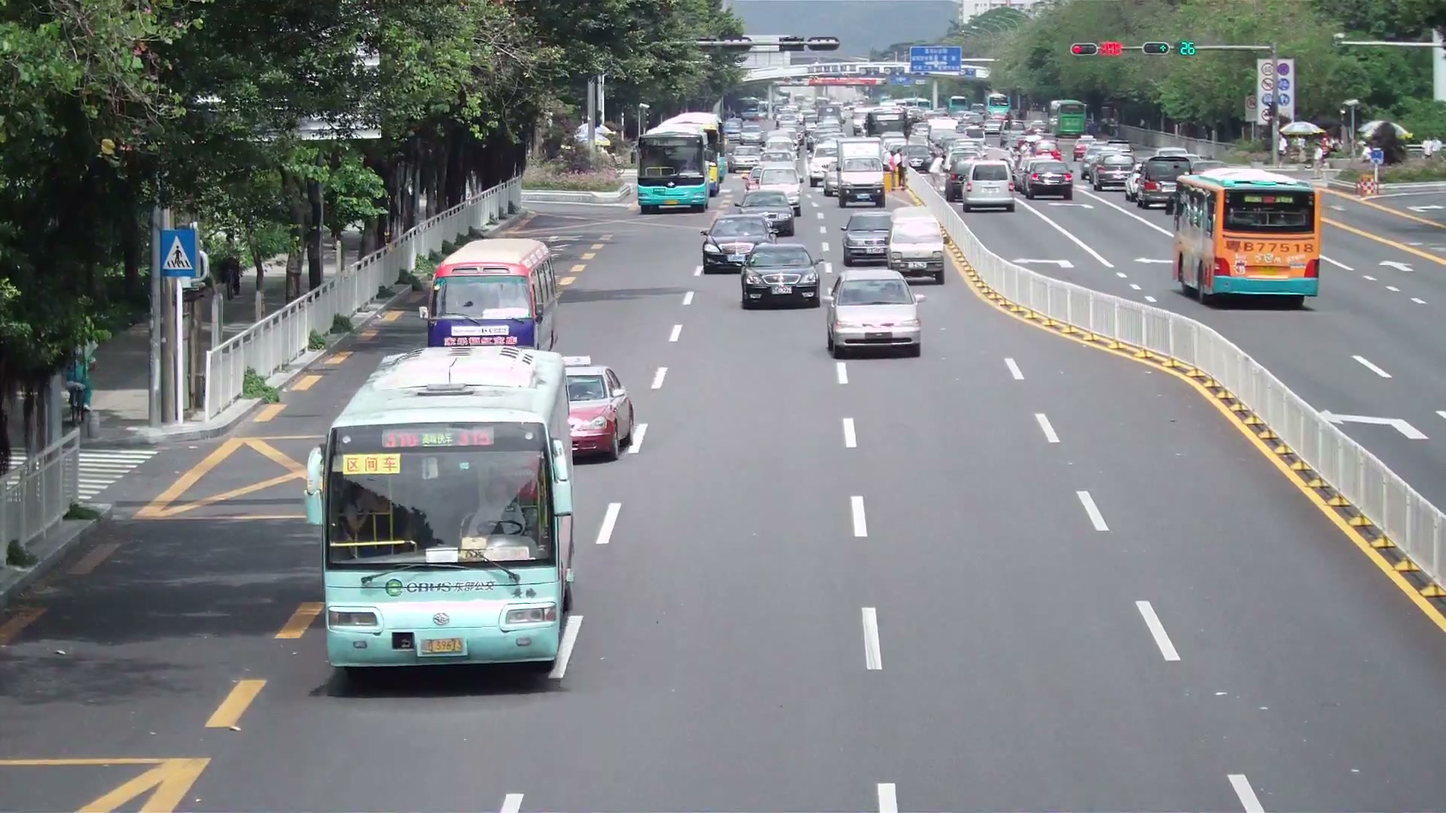bus: (311, 344, 577, 673), (1171, 165, 1321, 307), (427, 236, 561, 350), (636, 112, 724, 213)
car: (822, 266, 922, 359), (564, 363, 636, 462), (738, 243, 820, 309), (885, 211, 946, 284), (700, 213, 772, 273), (1124, 151, 1194, 210), (959, 161, 1016, 213), (840, 209, 892, 266), (1021, 158, 1075, 200), (1088, 150, 1133, 190)
pedestrian: (461, 471, 526, 538)
truck: (426, 236, 561, 351), (835, 136, 887, 207)
